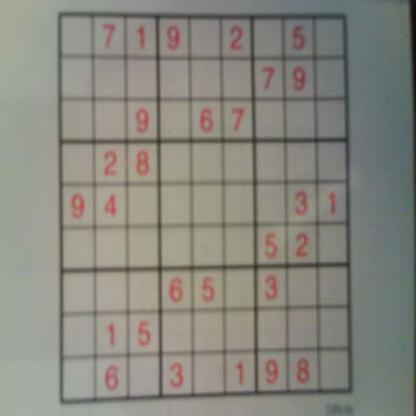sudoku: (54, 6, 356, 407)
